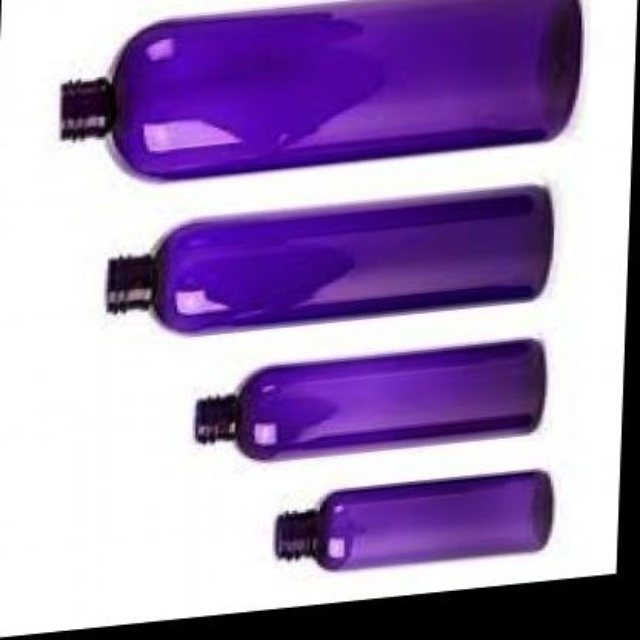trash: (62, 0, 580, 177), (106, 186, 551, 331), (195, 340, 545, 458), (275, 471, 551, 568)
